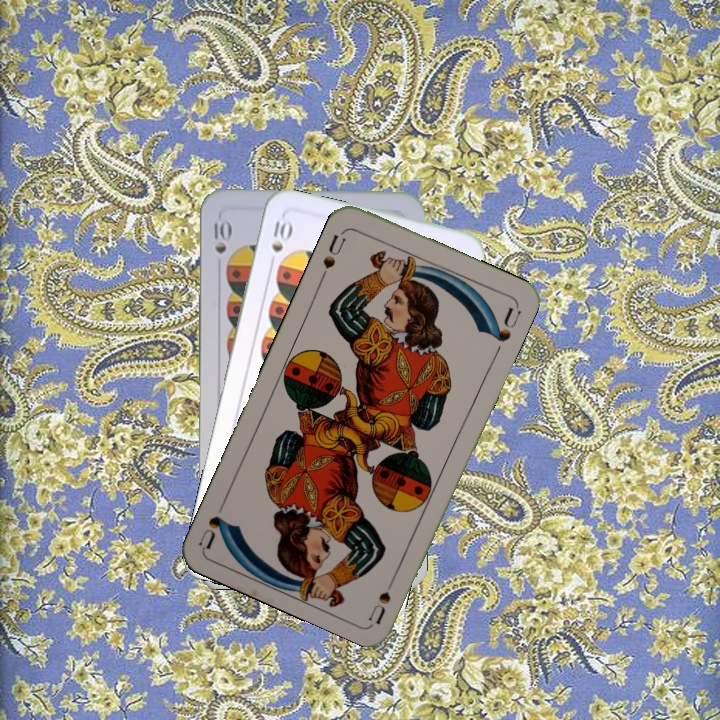S10: (265, 216, 294, 271), (210, 216, 232, 256)
SU: (365, 568, 401, 625), (316, 226, 349, 282)
